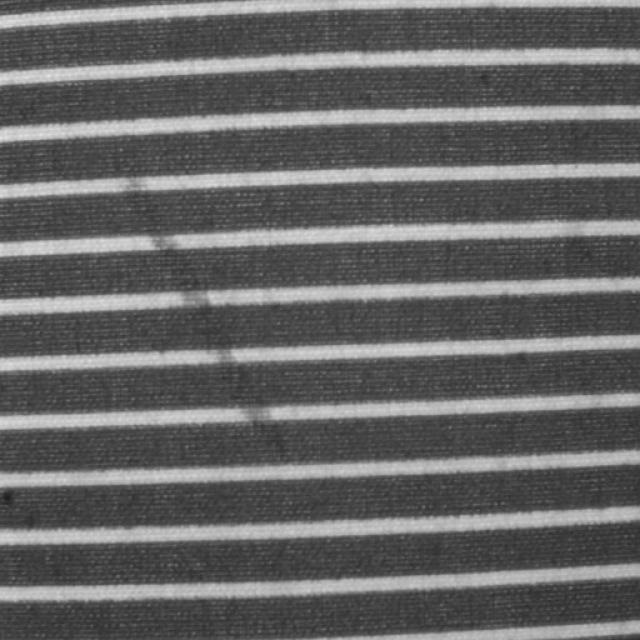Stain-Defect: (108, 149, 301, 469)
